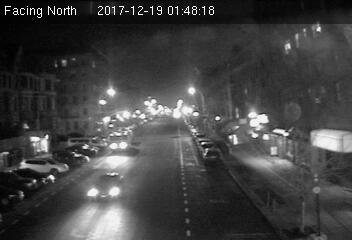car: (86, 172, 128, 199)
